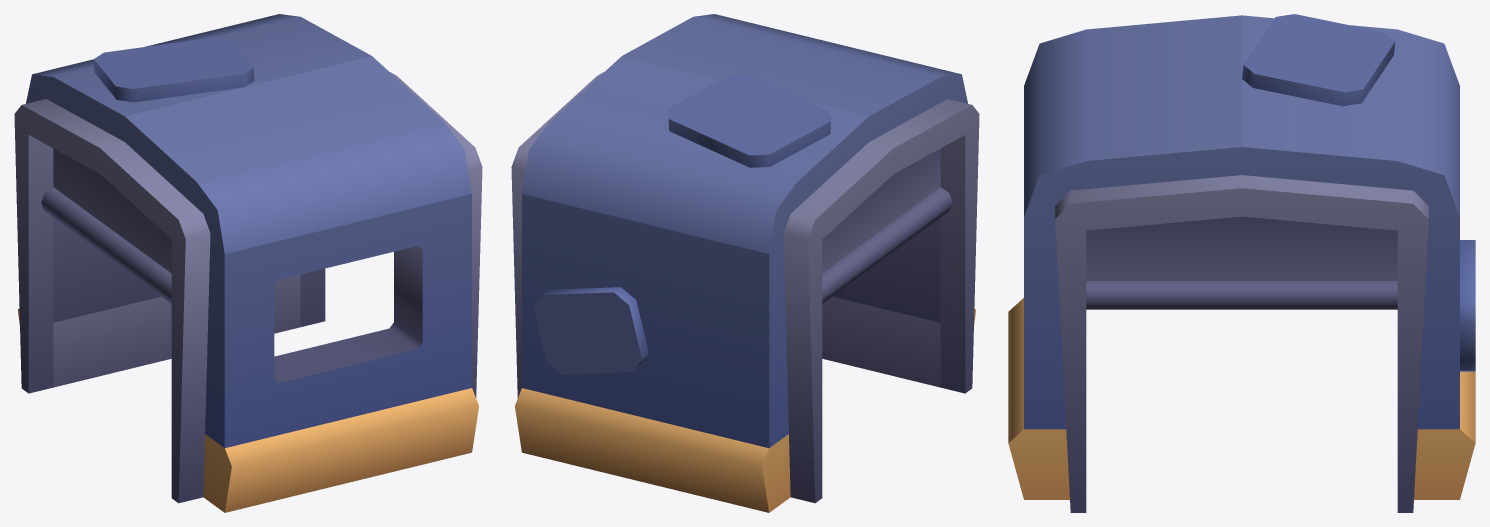
The model's file is kenney-factory-machine.glb.
The picture shows the model from 3 angles, left to right: view 1: azimuth 30°, elevation 25°; view 2: azimuth 150°, elevation 25°; view 3: azimuth 270°, elevation 25°; orthographic projection. The views are drawn at different scales.
Parts seen in each view (by area): view 1: machine; view 2: machine; view 3: machine.
Part boxes in pixels (x1=…): machine: x1=14, y1=14, x2=482, y2=512; machine: x1=511, y1=14, x2=979, y2=512; machine: x1=1008, y1=14, x2=1475, y2=512.
Bounding box in the file's own units: 1.8 × 1.95 × 2.25.
1 material, 1 textured.
